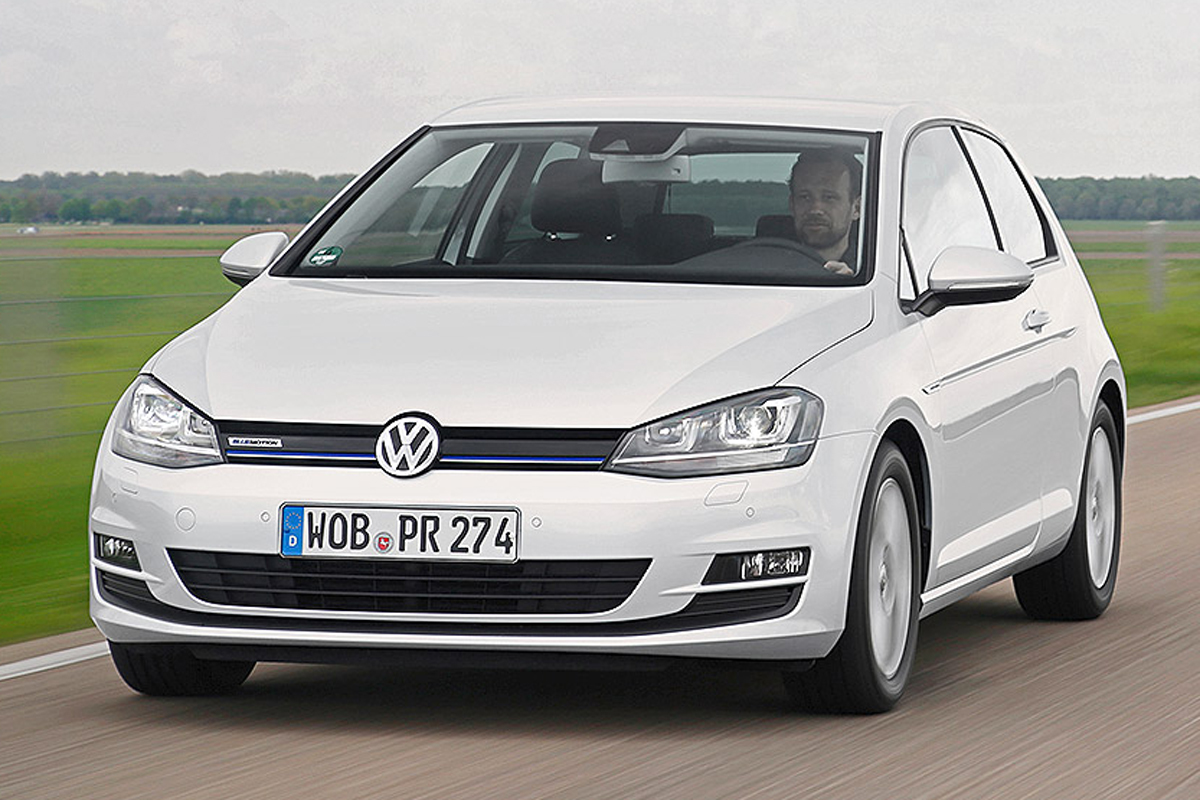front_view: (27, 166, 471, 342)
headlight: (328, 185, 464, 245)
side_glass: (448, 13, 525, 138)
